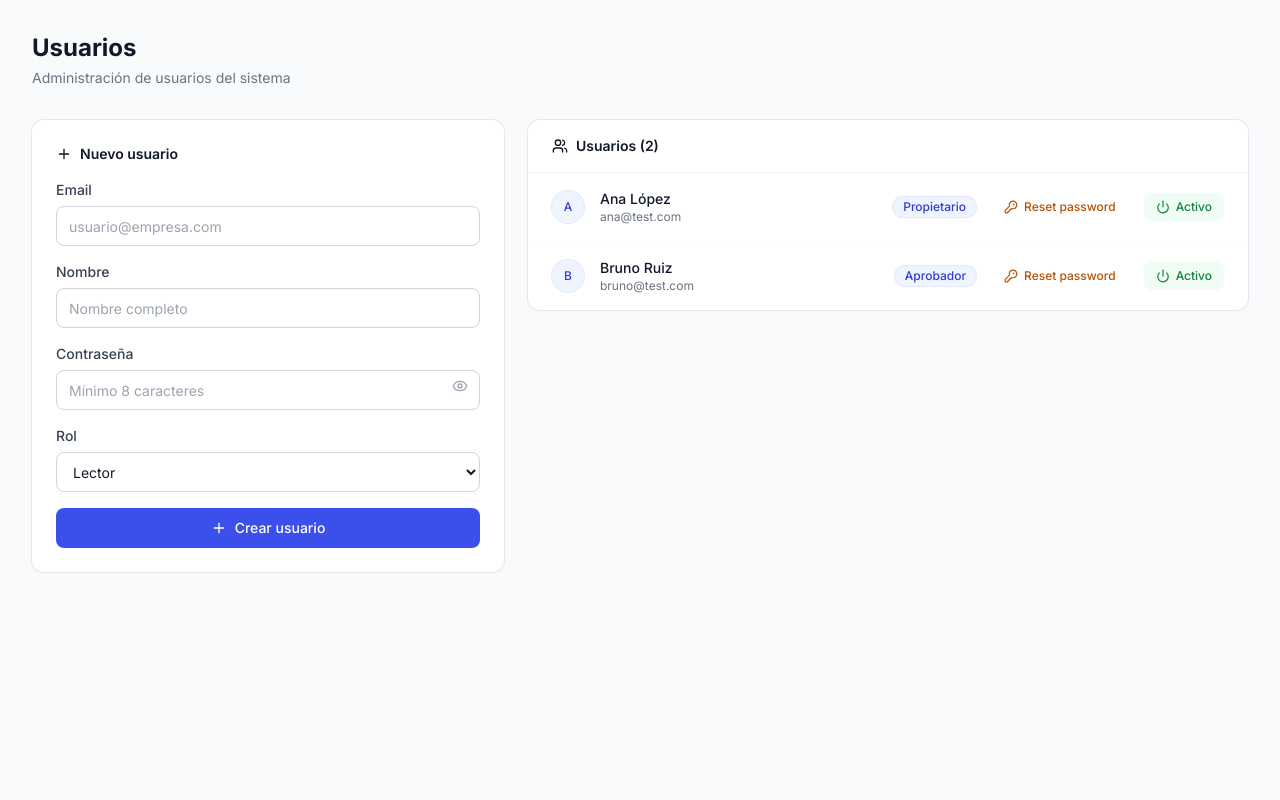
UsersPage › envía reset password con nueva contraseña
Expected: the text "Ana López" is shown, x1=600 y1=190 x2=671 y2=207
Click the button "Reset password" in the row of "Ana López" at (1060, 207), box x1=992 y1=193 x2=1128 y2=221
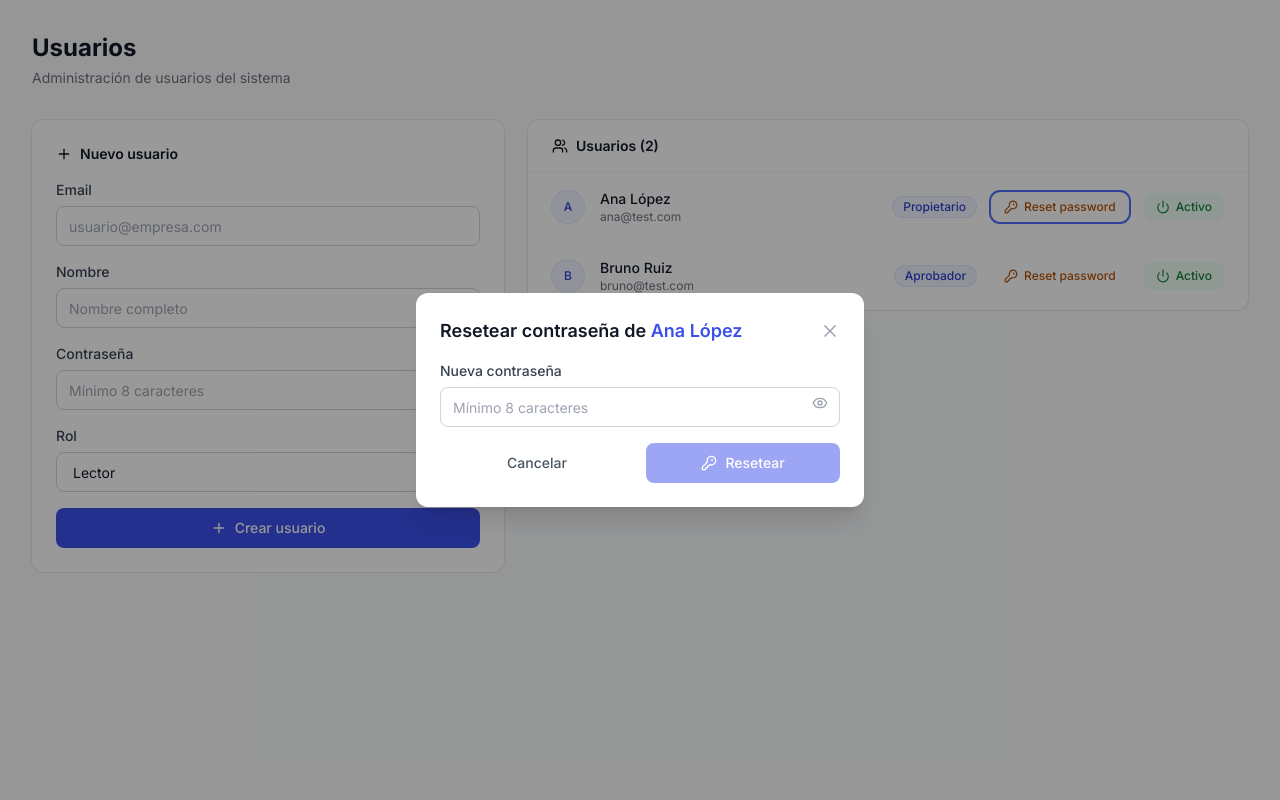
Type "newPass123" into the password field labelled "Nueva contraseña" at (640, 407), box x1=440 y1=387 x2=840 y2=427
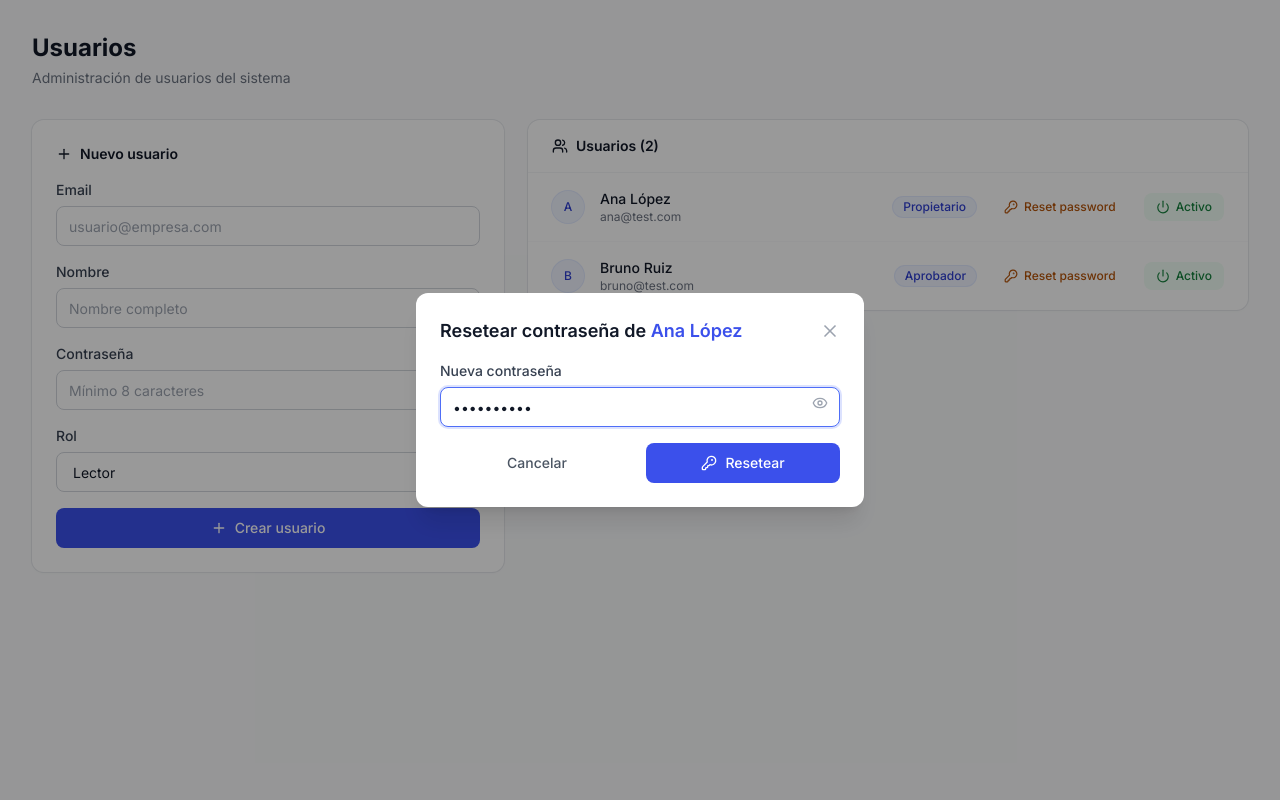
Click the button "Resetear" at (743, 463), box x1=646 y1=443 x2=840 y2=483
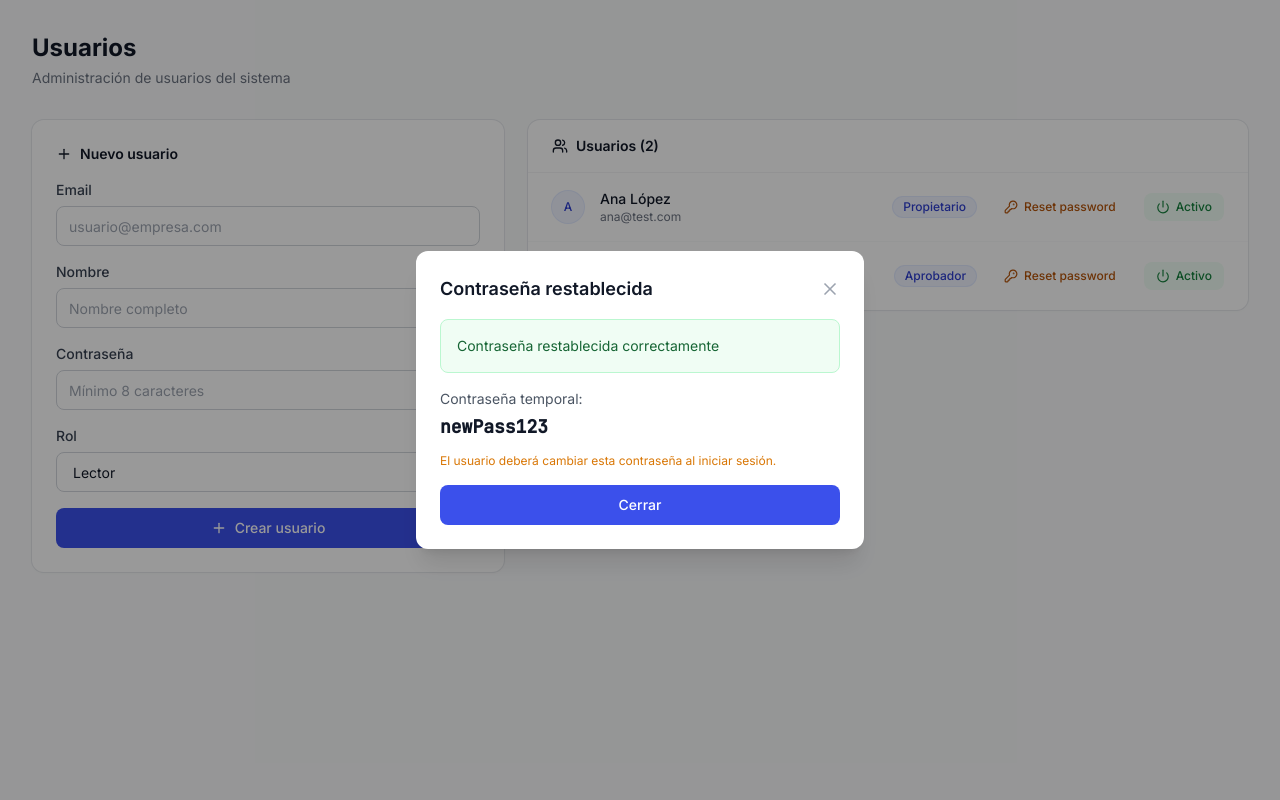
Now the text "Contraseña restablecida correctamente" is shown, box x1=440 y1=319 x2=840 y2=373
Now the text "newPass123" is shown, box x1=440 y1=415 x2=548 y2=438
